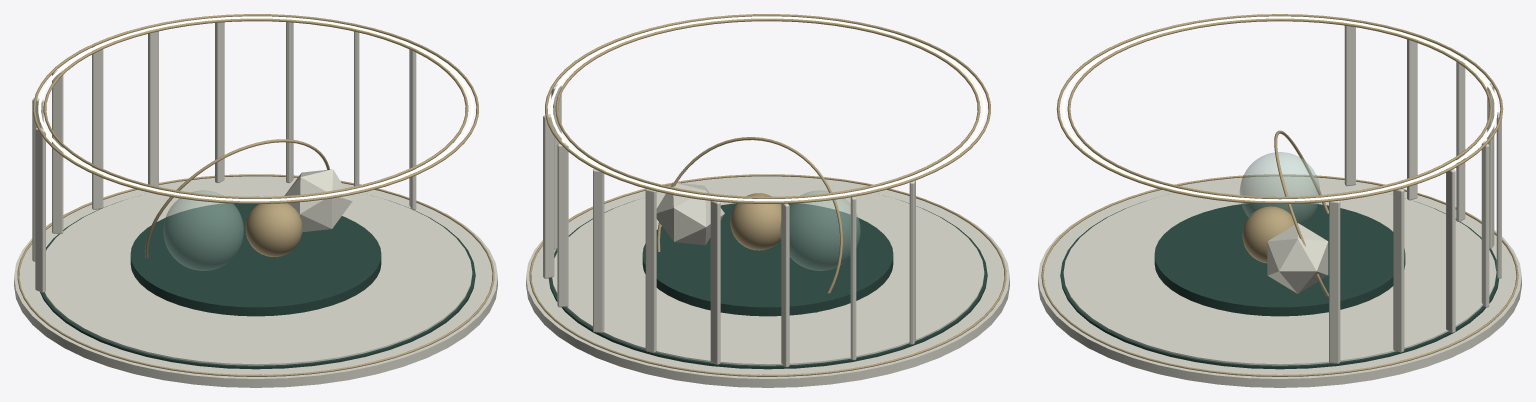
File: settings.glb
3 views of the same model, side by side, from view 1: azimuth 30°, elevation 25°; view 2: azimuth 150°, elevation 25°; view 3: azimuth 270°, elevation 25° (orthographic).
Parts seen in each view (by area): view 1: settings; view 2: settings; view 3: settings.
Part boxes in pixels (left/top/right/bottom): settings: left=14, top=14, right=497, bottom=387; settings: left=526, top=14, right=1009, bottom=387; settings: left=1038, top=14, right=1521, bottom=387.
Size of the model in its own units: 10.8 by 5.12 by 10.8.
